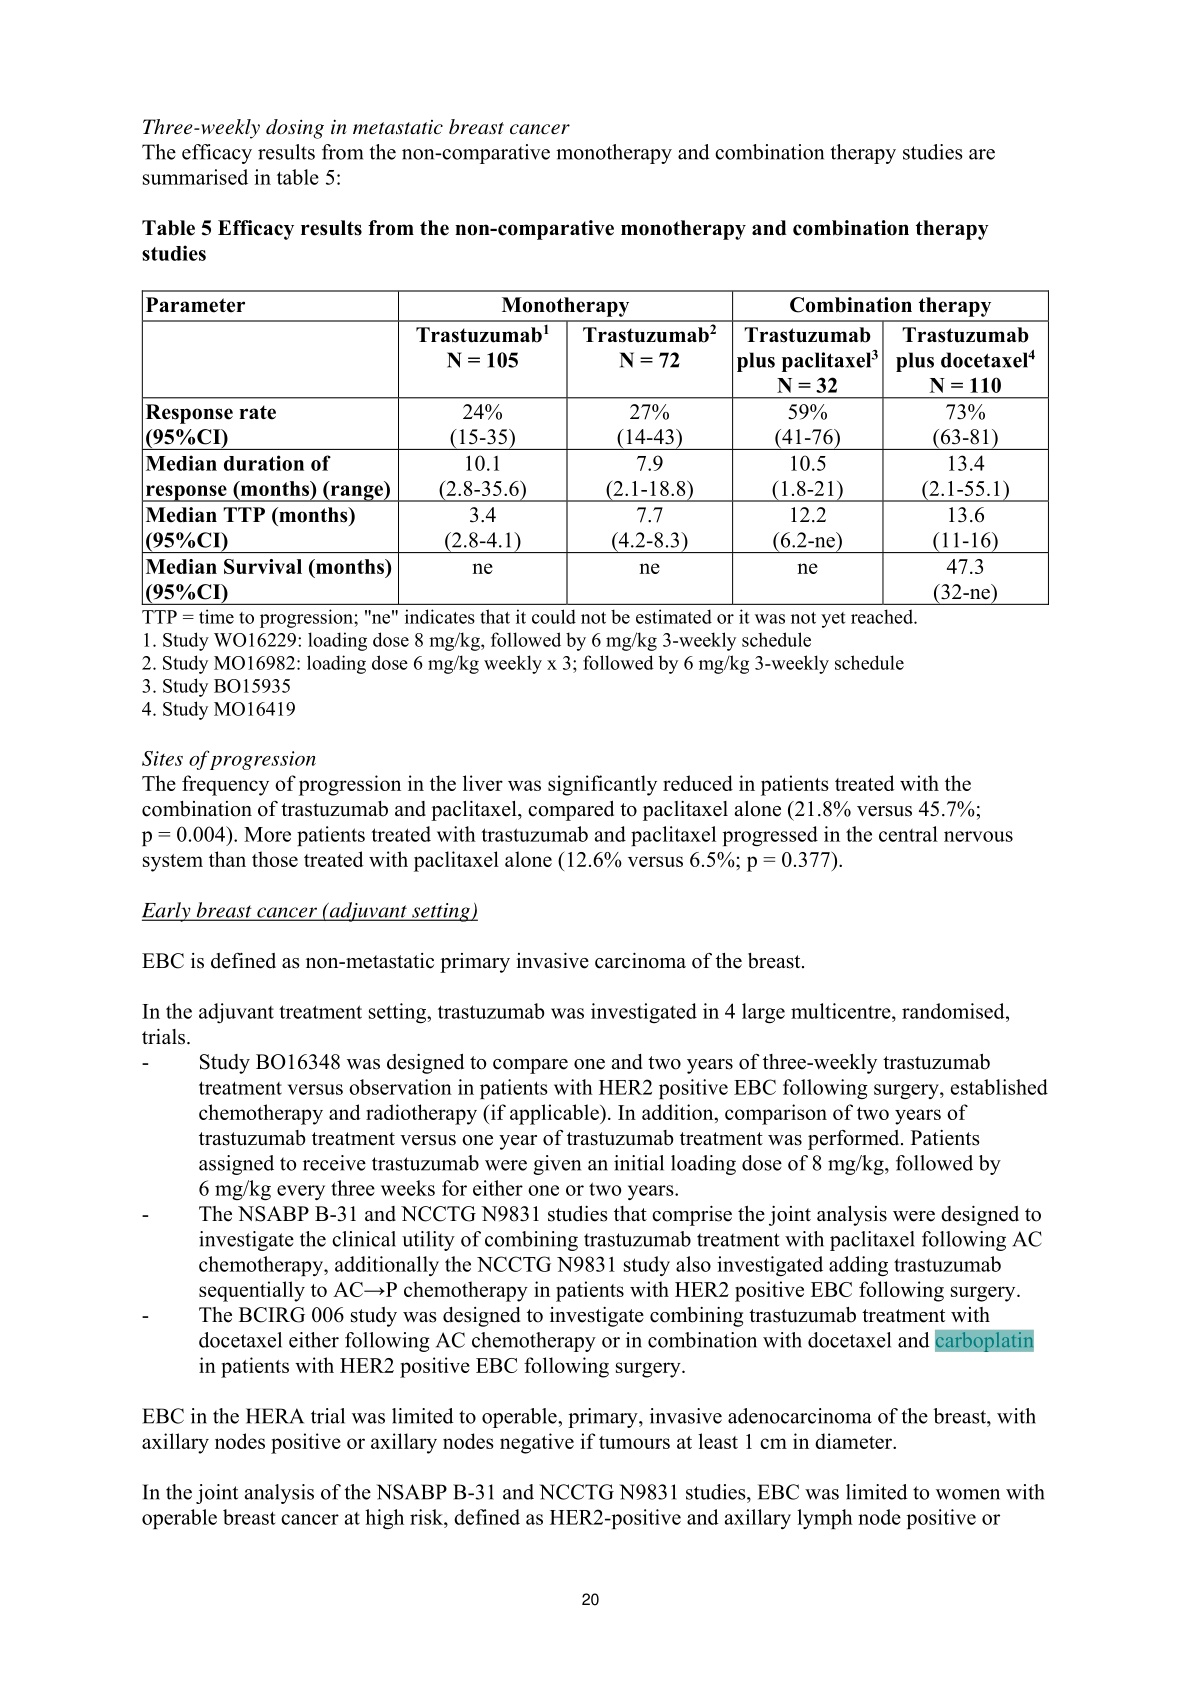merged_cells: (140, 289, 1049, 606)
